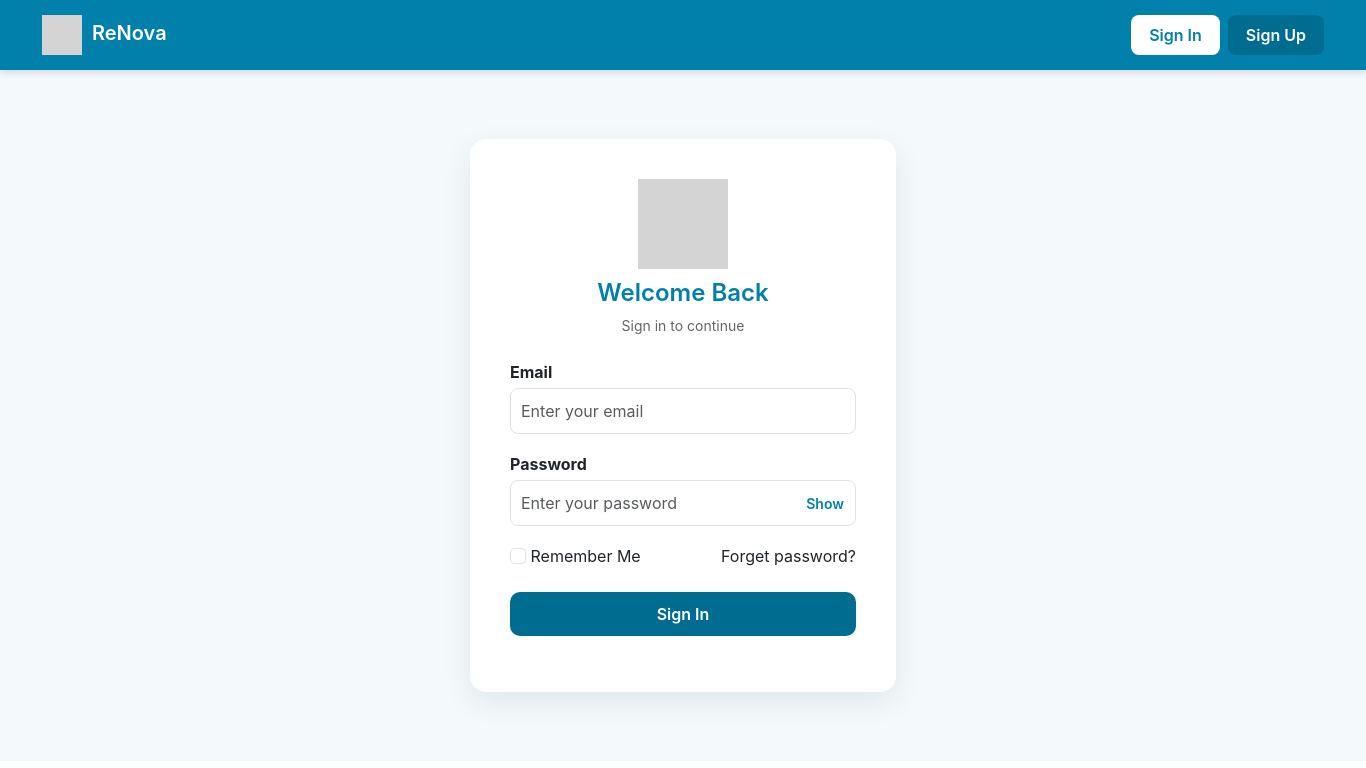
Scenario: Login Component – Basic Working Tests › shows validation errors when submitting empty form
Click the button "Sign In" at (683, 614), box [510,592,856,636]
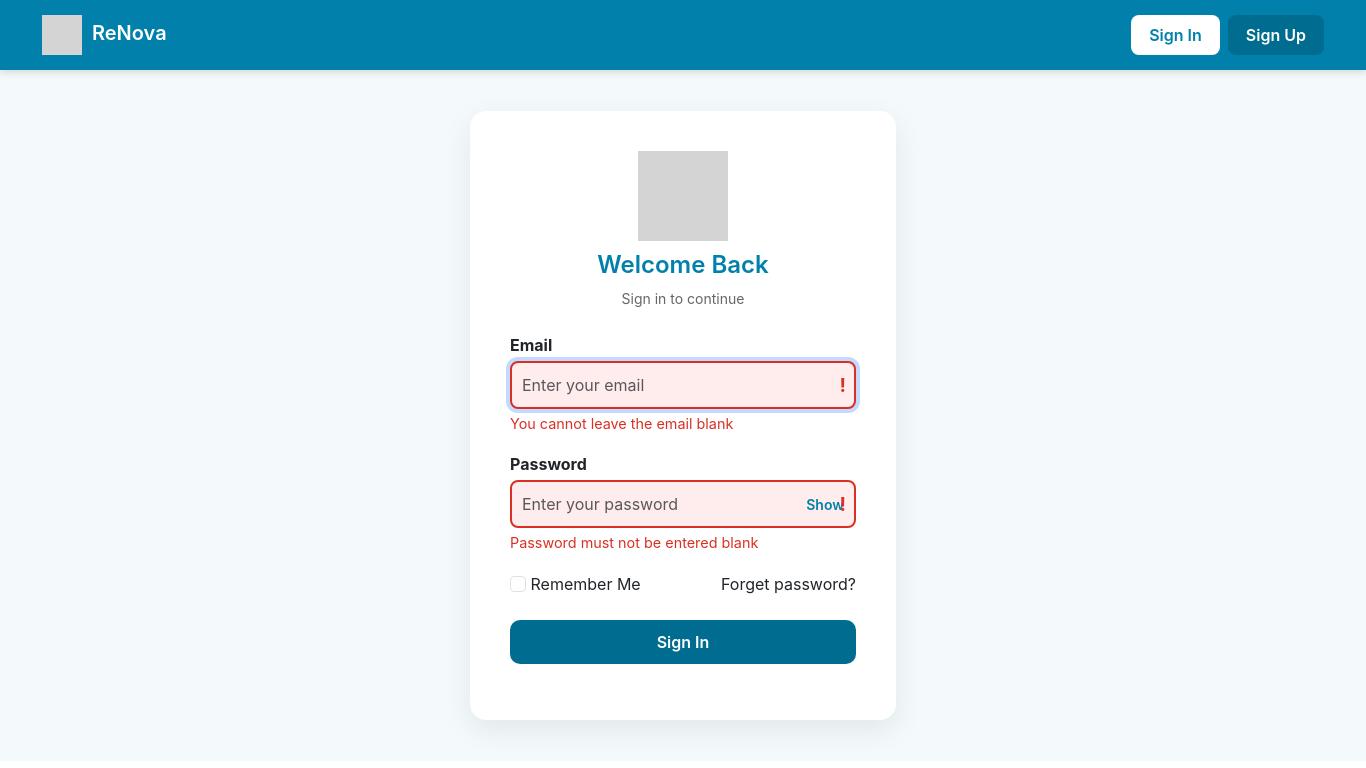
Result: the text "You cannot leave the email blank" is shown at [510,415,733,432]
Result: the text "Password must not be entered blank" is shown at [510,534,758,552]
